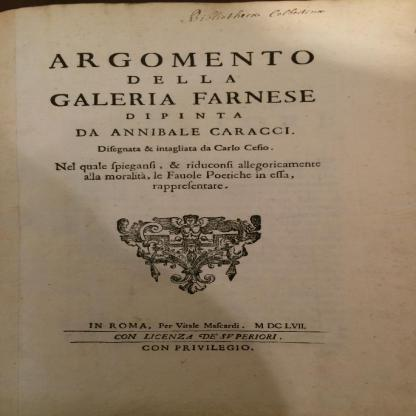book: (7, 9, 416, 386)
